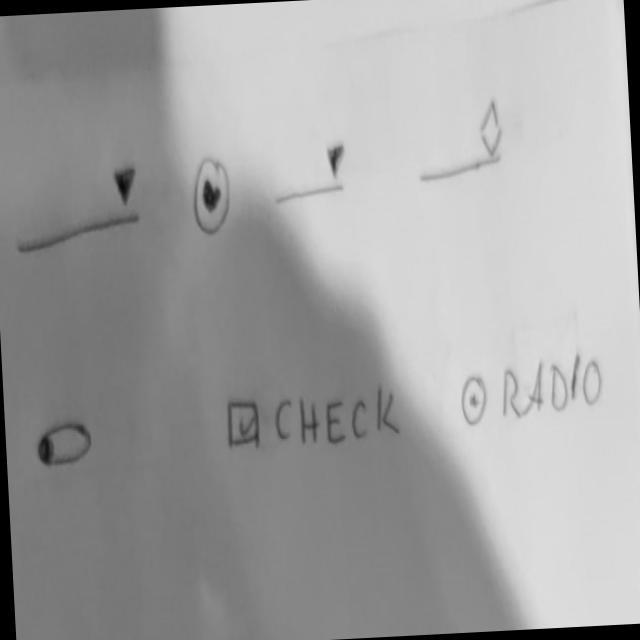checkbox: (225, 380, 405, 456)
icon-button: (191, 154, 237, 244)
number-input: (410, 95, 508, 193)
radio: (458, 349, 608, 433)
select: (11, 159, 146, 261), (270, 141, 351, 214)
toggle: (34, 416, 95, 475)
